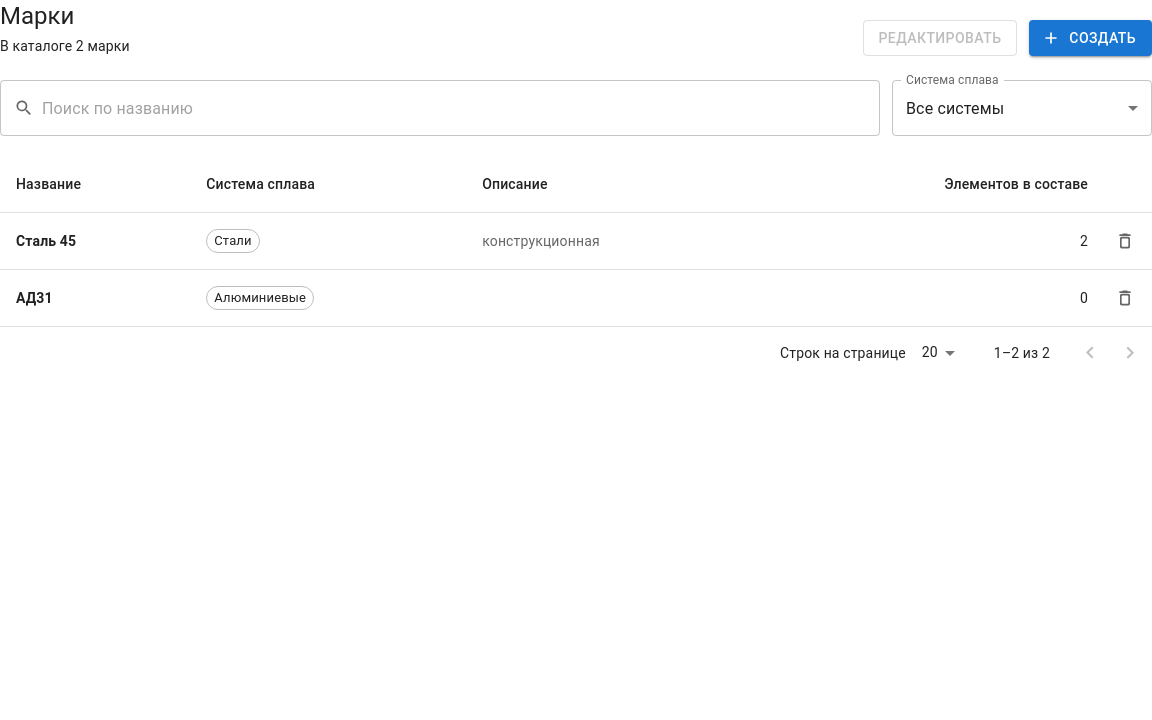
Test: GradesPage › opens card on click with composition table
Click the text "Сталь 45" at (95, 241), box [0,212,190,270]
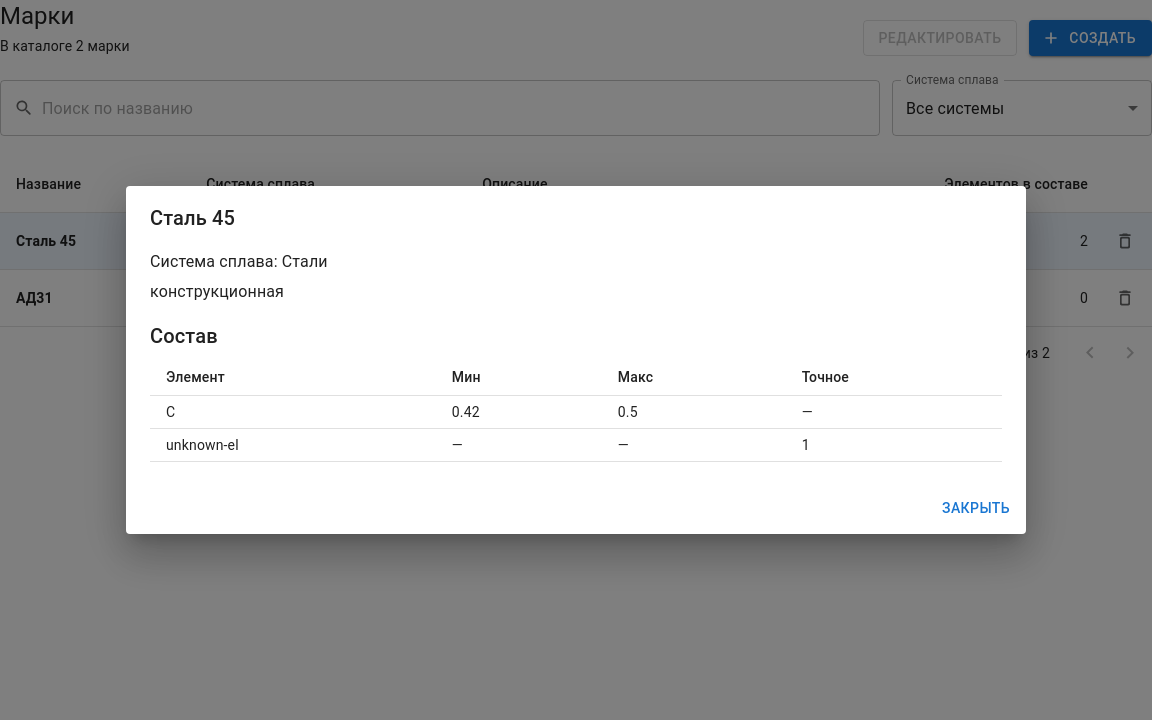
Result: the text "C" is shown at [150,395,436,428]
Result: the text "0.42" is shown at [436,395,602,428]
Result: the text "0.5" is shown at [602,395,786,428]
